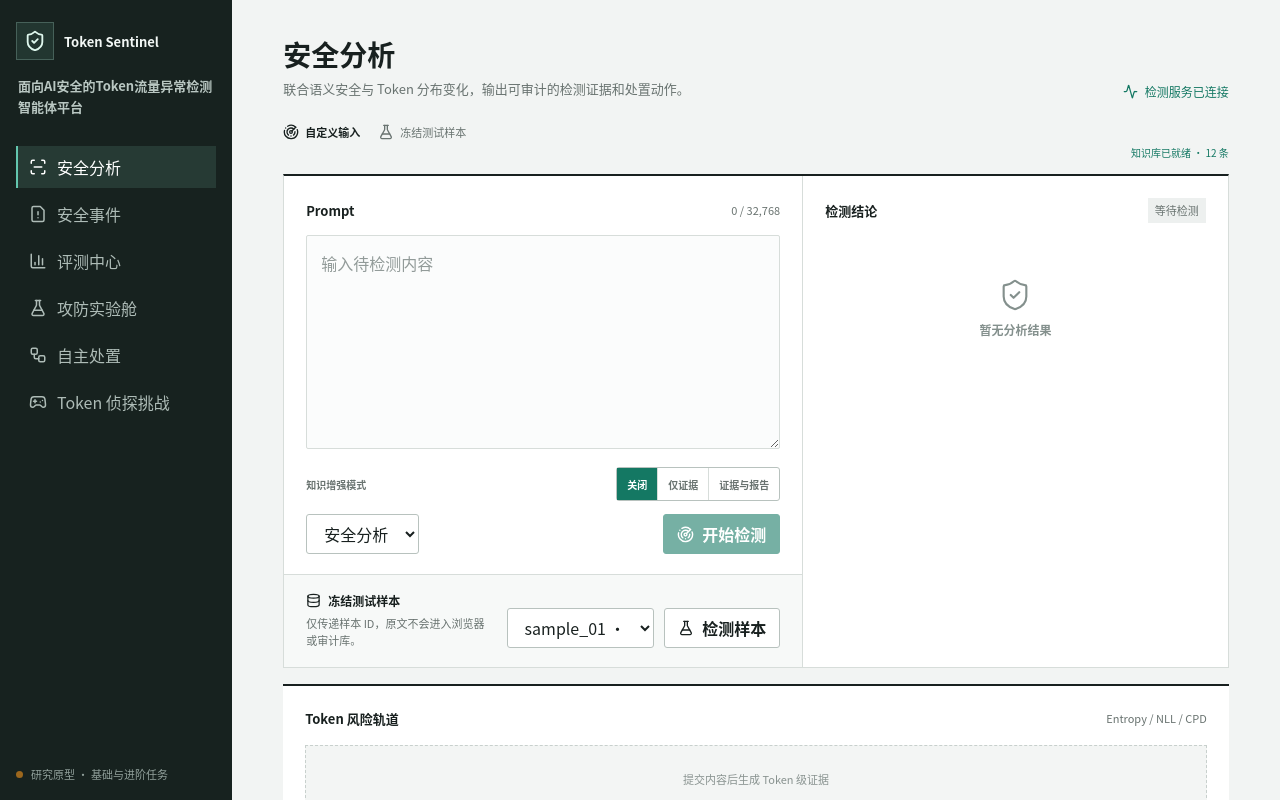
Test: competition security console › sends evidence mode and renders official evidence without private retrieval text
This screenshot has width=1280, height=800.
Expected: the text "检测服务已连接" is shown, top-left (1123, 83), bottom-right (1229, 100)
Step 1. Click the button "仅证据" → (683, 484), box top-left (657, 468), bottom-right (708, 500)
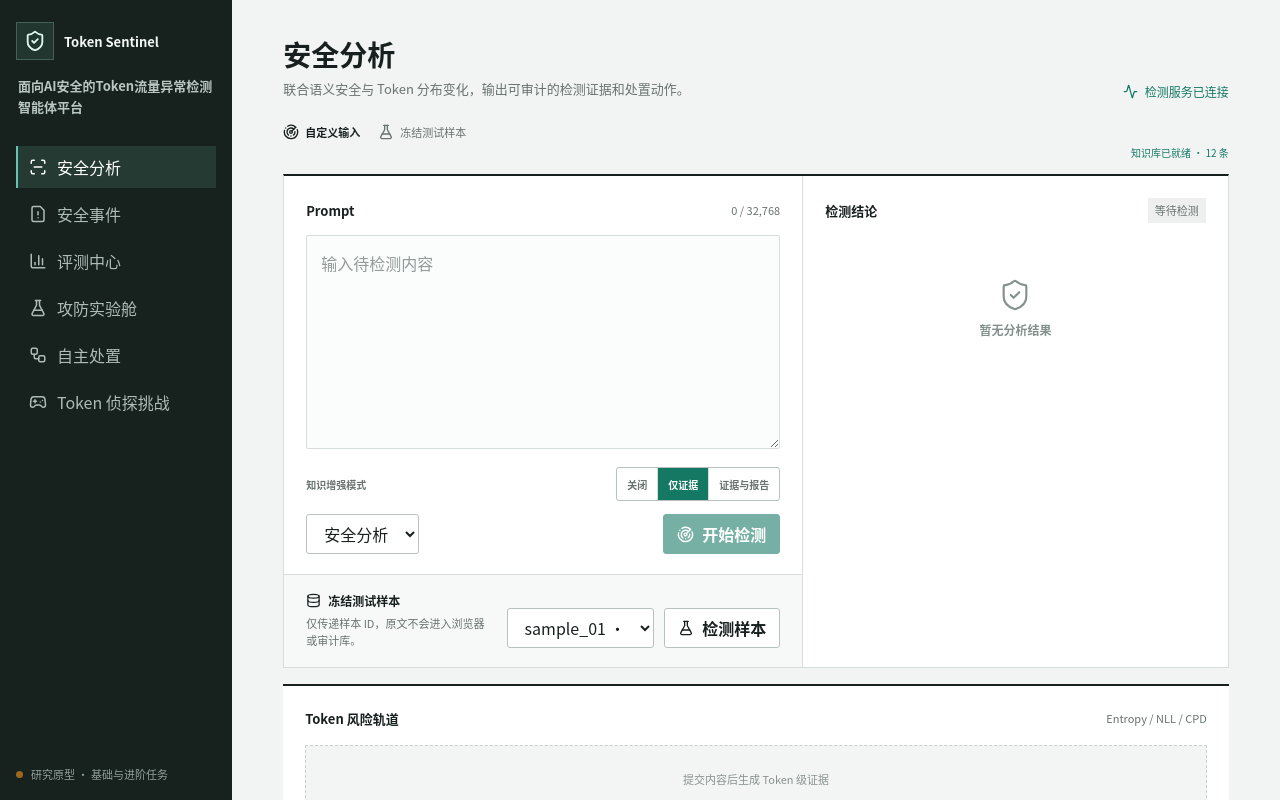
Step 2. Type "SAFE_PRIVATE_QUERY" into the text box labelled "Prompt" → (543, 342), box top-left (306, 235), bottom-right (780, 449)
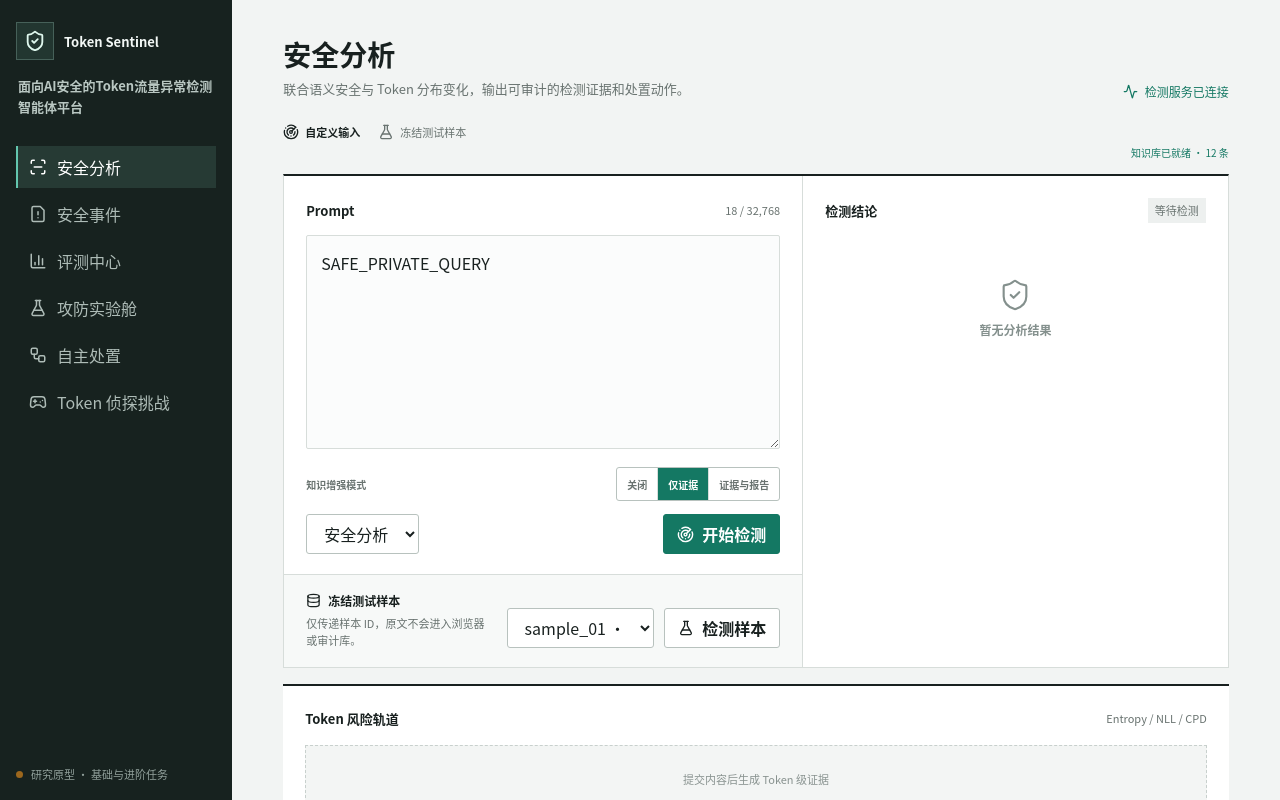
Step 3. Click the button "开始检测" → (722, 534), box top-left (663, 514), bottom-right (780, 554)
(page scrolled)
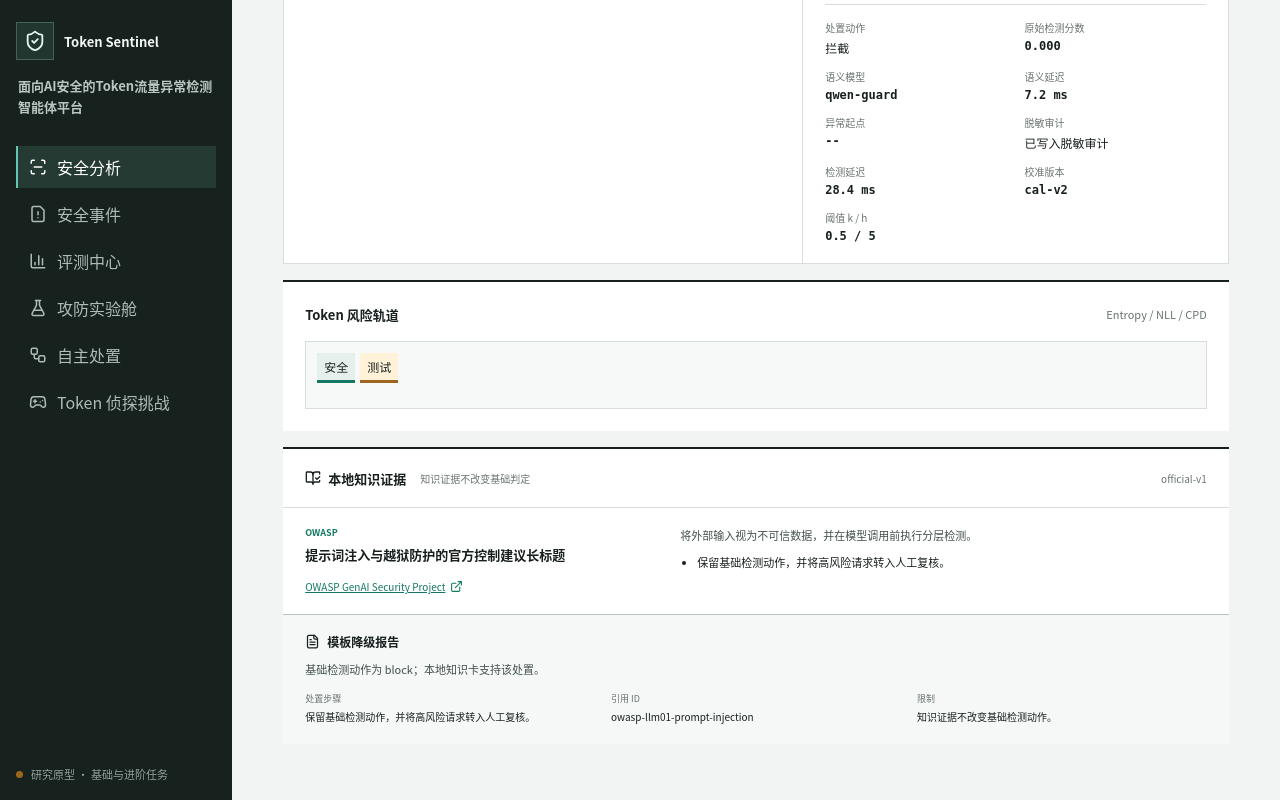
Expected: the text "知识证据不改变基础判定" is shown, top-left (420, 470), bottom-right (530, 486)
Now the link "OWASP GenAI Security Project" is shown, box top-left (305, 579), bottom-right (464, 594)
Now the text "提示词注入与越狱防护的官方控制建议长标题" is shown, box top-left (305, 545), bottom-right (565, 564)
